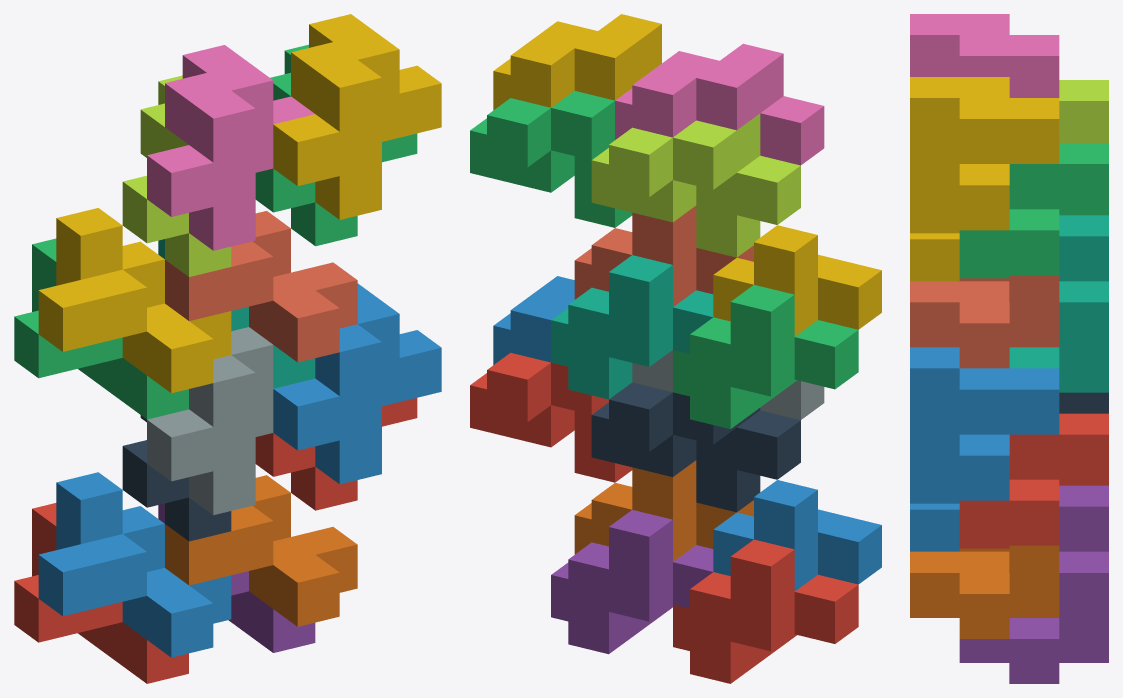
Rendered from tiling.obj.
3 renders of one model, left to right at view 1: azimuth 30°, elevation 25°; view 2: azimuth 150°, elevation 25°; view 3: azimuth 270°, elevation 25°, orthographic. The views are drawn at different scales.
Visible parts, largest first — view 1: copy_2_domain_8, copy_1_domain_4, copy_1_domain_2, copy_2_domain_4, copy_2_domain_6, copy_1_domain_6, copy_1_domain_8, copy_2_domain_2, copy_1_domain_3, copy_1_domain_1, copy_2_domain_3, copy_2_domain_7 (+4 smaller); view 2: copy_2_domain_3, copy_1_domain_1, copy_1_domain_3, copy_2_domain_1, copy_2_domain_4, copy_1_domain_5, copy_1_domain_7, copy_2_domain_7, copy_2_domain_8, copy_1_domain_4, copy_1_domain_2, copy_2_domain_5 (+4 smaller); view 3: copy_2_domain_8, copy_2_domain_6, copy_1_domain_5, copy_1_domain_8, copy_1_domain_6, copy_2_domain_5, copy_2_domain_7, copy_1_domain_7, copy_2_domain_4, copy_2_domain_3, copy_1_domain_2, copy_1_domain_4 (+3 smaller).
Part boxes in pixels (x1,y1,x2,y2): copy_2_domain_8: [273, 14, 441, 219]; copy_1_domain_4: [38, 208, 231, 393]; copy_1_domain_2: [38, 472, 231, 657]; copy_2_domain_4: [147, 45, 314, 250]; copy_2_domain_6: [273, 283, 441, 484]; copy_1_domain_6: [165, 475, 357, 626]; copy_1_domain_8: [165, 211, 357, 362]; copy_2_domain_2: [147, 327, 273, 515]; copy_1_domain_3: [14, 238, 188, 419]; copy_1_domain_1: [14, 503, 188, 683]; copy_2_domain_3: [122, 75, 231, 276]; copy_2_domain_7: [255, 44, 417, 246]; copy_2_domain_3: [591, 113, 800, 257]; copy_1_domain_1: [673, 539, 858, 683]; copy_1_domain_3: [673, 285, 858, 428]; copy_2_domain_1: [591, 382, 800, 512]; copy_2_domain_4: [615, 43, 824, 165]; copy_1_domain_5: [551, 510, 713, 654]; copy_1_domain_7: [551, 255, 713, 399]; copy_2_domain_7: [470, 90, 632, 227]; copy_2_domain_8: [493, 14, 661, 110]; copy_1_domain_4: [713, 225, 881, 336]; copy_1_domain_2: [713, 480, 881, 591]; copy_2_domain_5: [470, 352, 632, 482]; copy_2_domain_8: [910, 77, 1059, 233]; copy_2_domain_6: [910, 347, 1059, 503]; copy_1_domain_5: [959, 485, 1108, 683]; copy_1_domain_8: [910, 275, 1059, 368]; copy_1_domain_6: [910, 545, 1059, 638]; copy_2_domain_5: [959, 413, 1108, 548]; copy_2_domain_7: [959, 143, 1108, 278]; copy_1_domain_7: [1009, 215, 1108, 392]; copy_2_domain_4: [910, 14, 1059, 97]; copy_2_domain_3: [1059, 80, 1108, 142]; copy_1_domain_2: [910, 503, 959, 551]; copy_1_domain_4: [910, 233, 959, 281].
Size of the model in its own units: 9 by 13 by 4.
